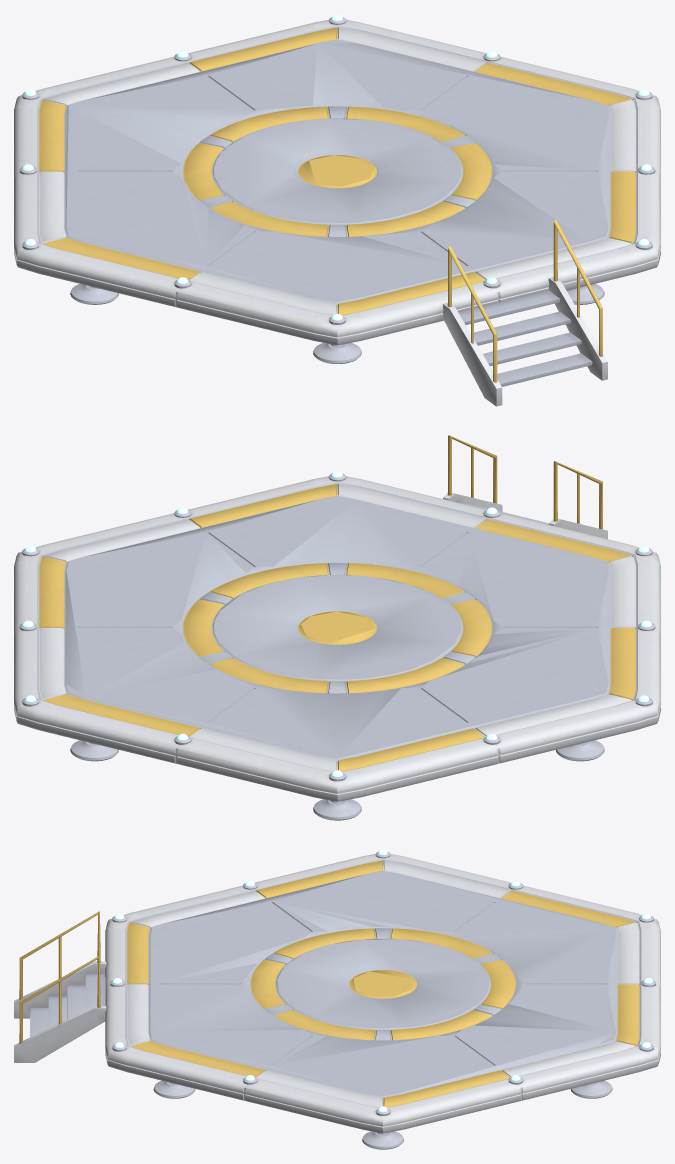
File: plataforma_aterrizaje.glb
3 renders of one model, top to bottom at view 1: azimuth 30°, elevation 25°; view 2: azimuth 150°, elevation 25°; view 3: azimuth 270°, elevation 25°, orthographic. The views are drawn at different scales.
Parts seen in each view (by area): view 1: landing-pad_body; view 2: landing-pad_body; view 3: landing-pad_body.
Boxes of the visible parts, x1,y1,x2,y2 form: landing-pad_body: (14,14,660,406); landing-pad_body: (14,435,660,820); landing-pad_body: (14,849,660,1149).
Bounding box in the file's own units: 10.31 × 1.91 × 10.48.
2 materials, 1 textured.
